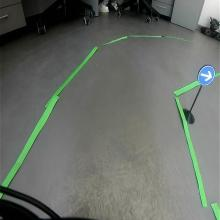right: (198, 65, 216, 86)
